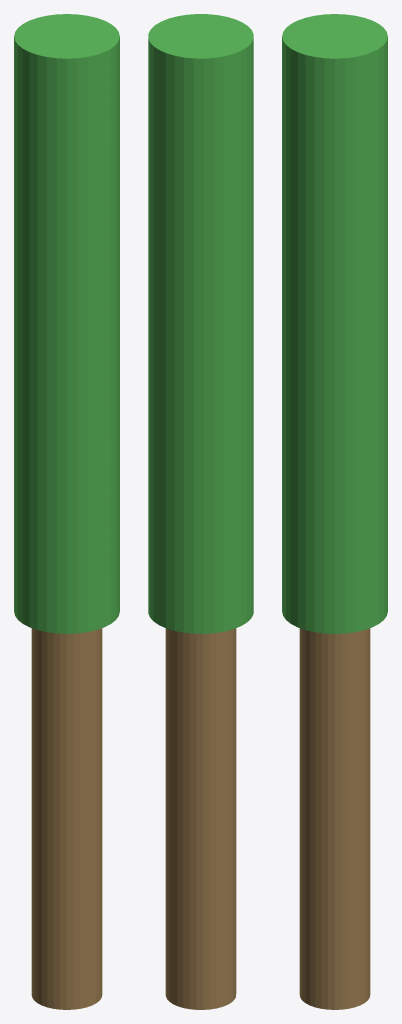
Rendered from tree_bamboo.glb.
3 views of the same model, side by side, from view 1: azimuth 90°, elevation 25°; view 2: azimuth 150°, elevation 25°; view 3: azimuth 270°, elevation 25° (orthographic).
Visible parts, largest first — view 1: tree_bamboo; view 2: tree_bamboo; view 3: tree_bamboo.
Boxes of the visible parts, x1=… form: tree_bamboo: x1=14, y1=14, x2=119, y2=1009; tree_bamboo: x1=148, y1=14, x2=253, y2=1009; tree_bamboo: x1=282, y1=14, x2=387, y2=1009.
Bounding box in the file's own units: 0.3 × 3 × 0.3.
